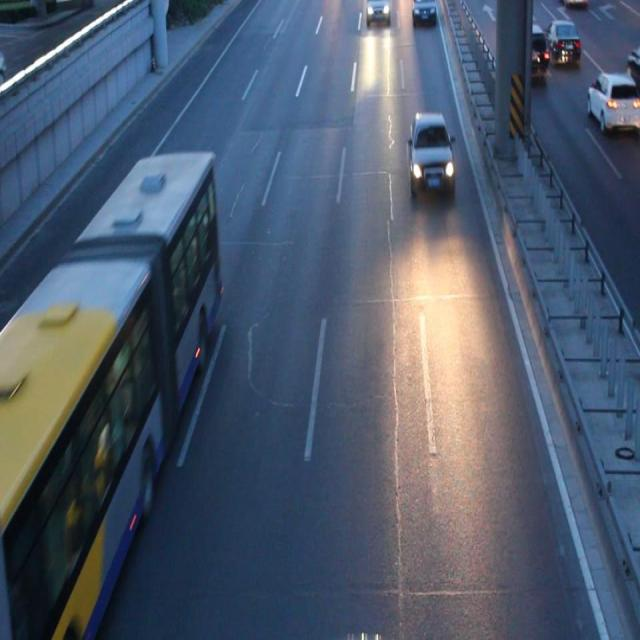car: (409, 113, 453, 189), (586, 72, 640, 127), (504, 25, 546, 80), (538, 20, 579, 62), (366, 1, 389, 24), (412, 1, 435, 24)
van: (0, 154, 218, 640)
